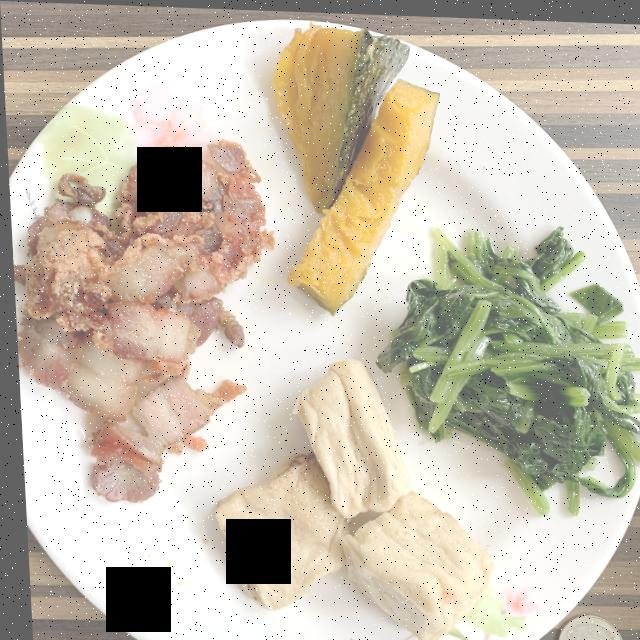coin: (552, 611, 616, 640)
creamy tofu -without sauce-: (209, 356, 487, 640)
mustard greens: (373, 222, 640, 509)
pumpkin: (273, 20, 438, 310)
red grilled pork: (11, 137, 270, 501)
